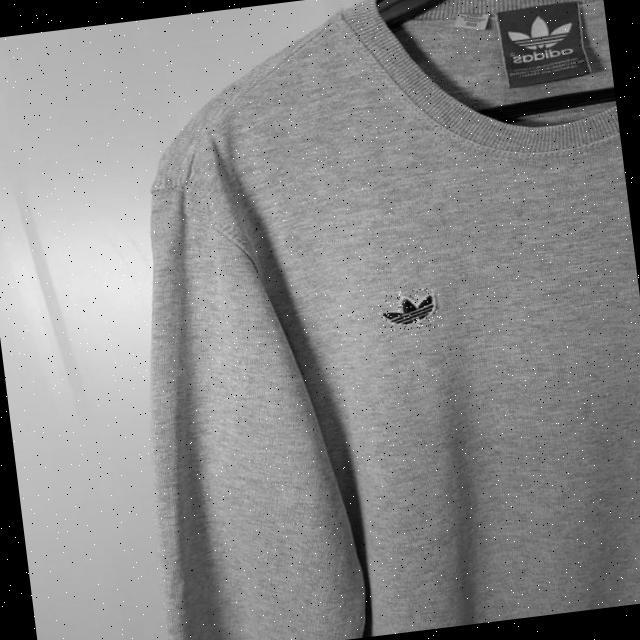Adidas: (376, 287, 443, 334)
